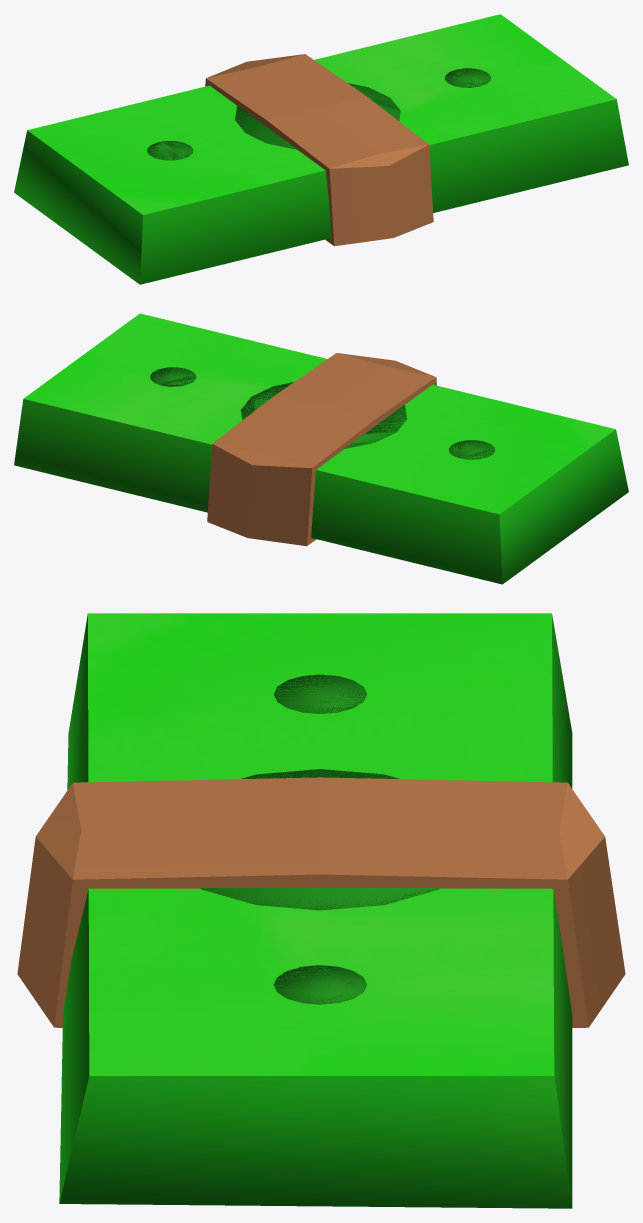
The model's file is moneyrev.fbx.
3 views of the same model, one above another, from view 1: azimuth 30°, elevation 25°; view 2: azimuth 150°, elevation 25°; view 3: azimuth 270°, elevation 25° (orthographic). The views are drawn at different scales.
Visible parts, largest first — view 1: Dollar Low; view 2: Dollar Low; view 3: Dollar Low.
Part boxes in pixels (<box>): Dollar Low: <box>14,14,628,284</box>; Dollar Low: <box>14,313,628,584</box>; Dollar Low: <box>17,613,625,1208</box>.
Bounding box in the file's own units: 60.13 × 9.24 × 32.53.
